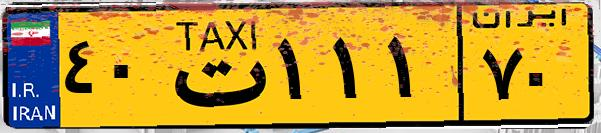0: (525, 38, 570, 115), (110, 28, 158, 98)
1: (270, 28, 330, 110), (385, 28, 445, 110), (330, 28, 385, 110)
4: (57, 26, 110, 100)
7: (475, 38, 525, 113)
ت: (158, 12, 270, 120)
